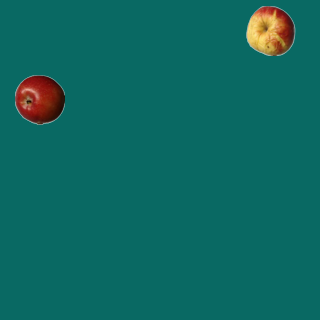Apple Braeburn: (14, 74, 64, 124)
Apple Red Yellow 1: (245, 5, 295, 55)
